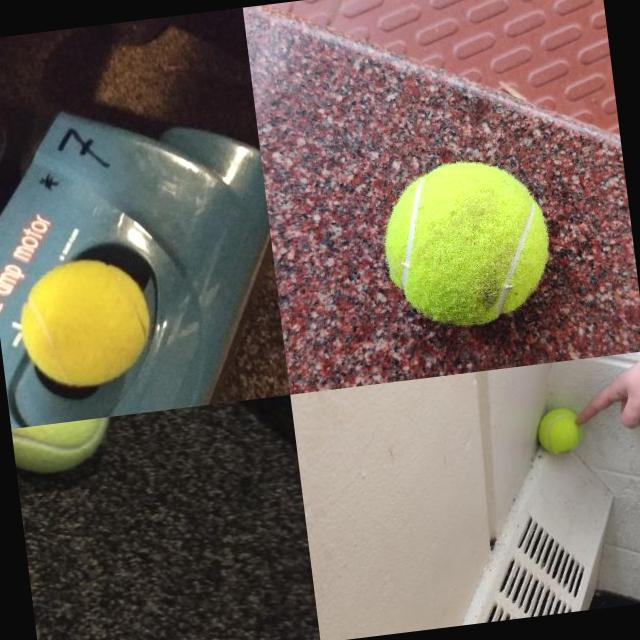Tennis Ball: (375, 152, 556, 334), (12, 252, 157, 394), (11, 416, 117, 477), (534, 405, 584, 455)
